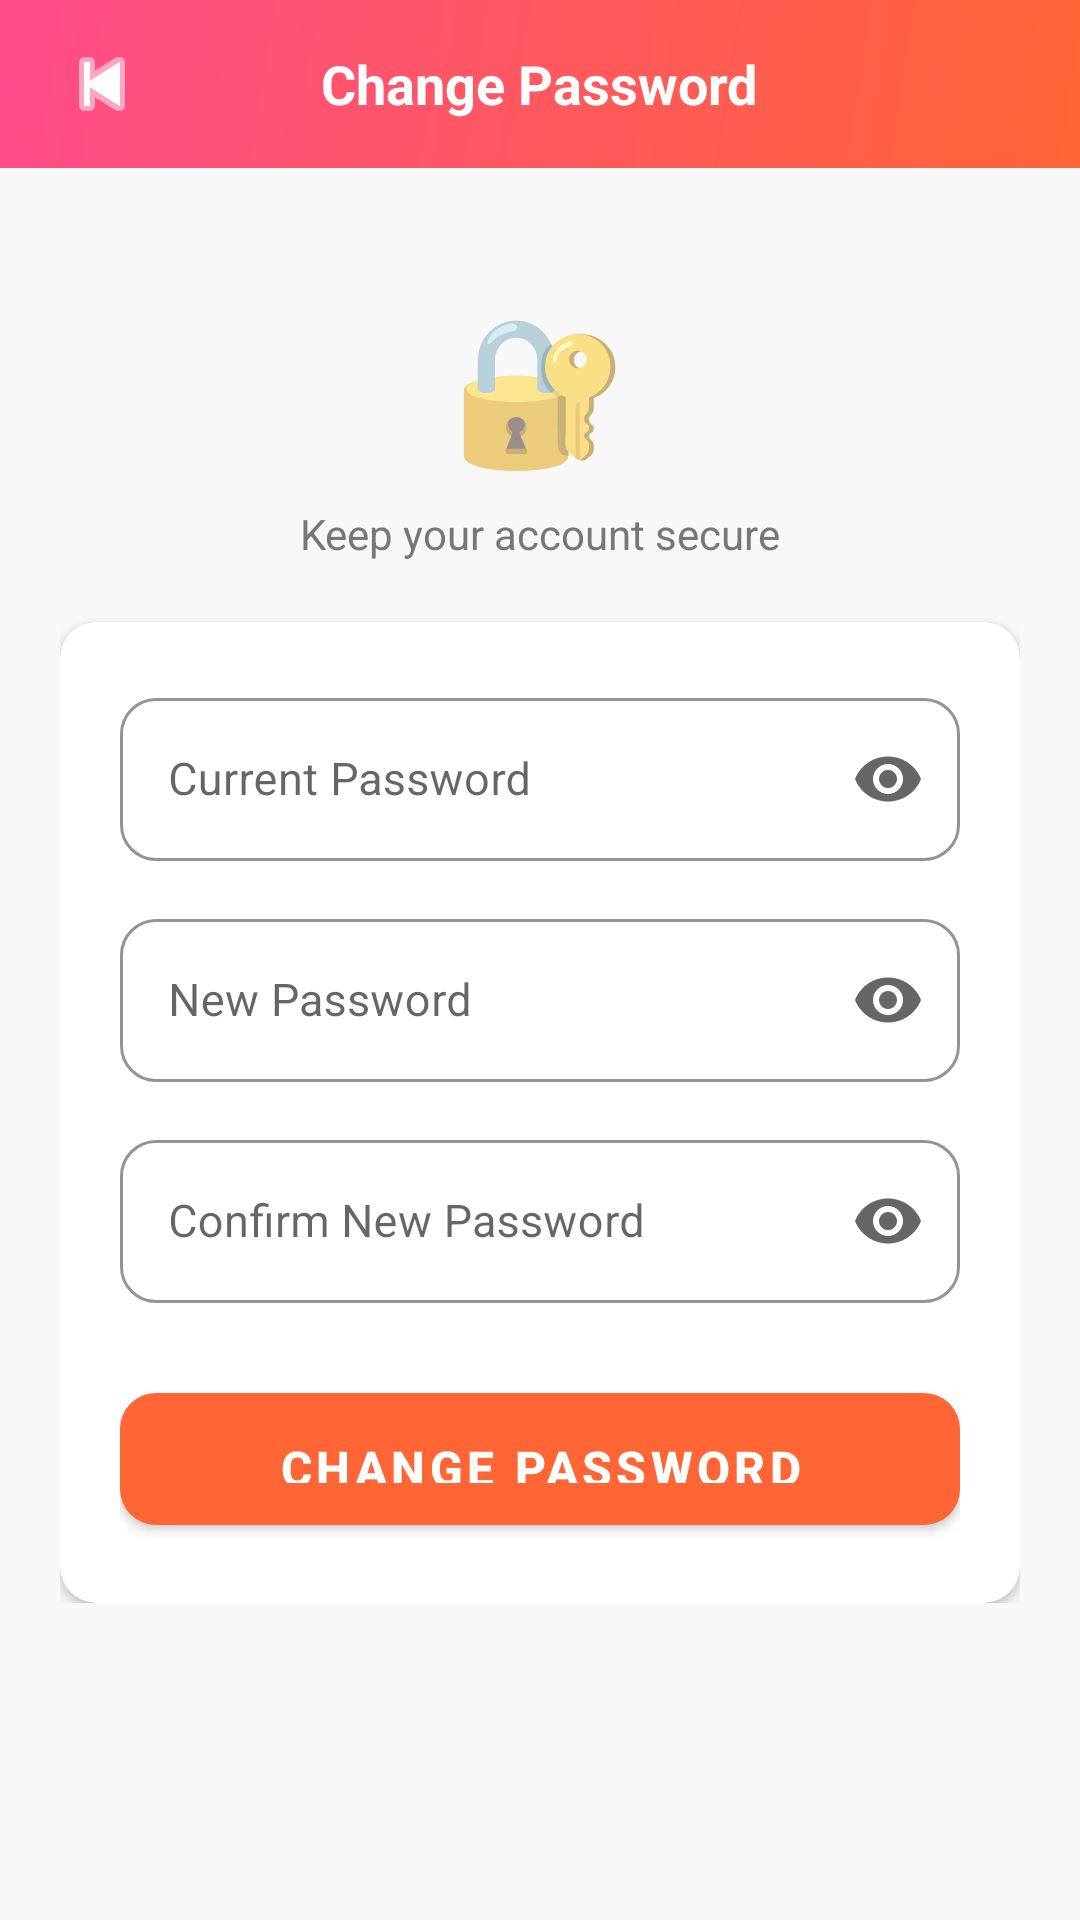

Named icons in this screenshot (1080 x 1920) and their bounding boxes, (x1, y1, x2, y2):
Back: (79, 57, 125, 111)
